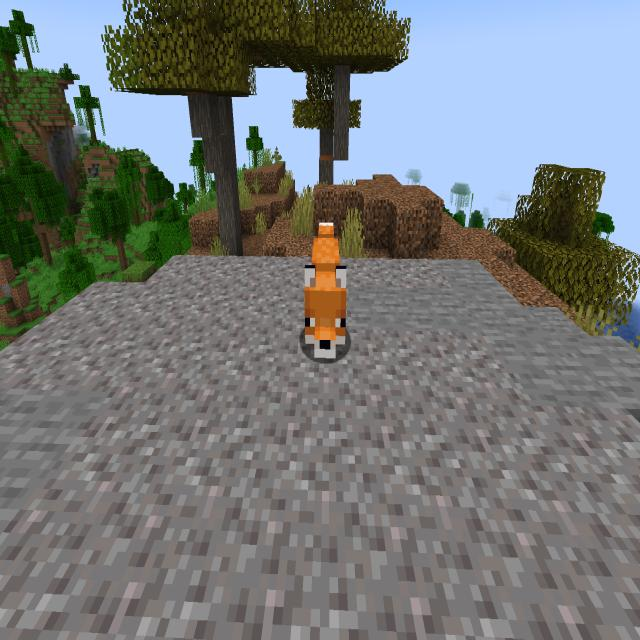Fox: (293, 208, 356, 374)
